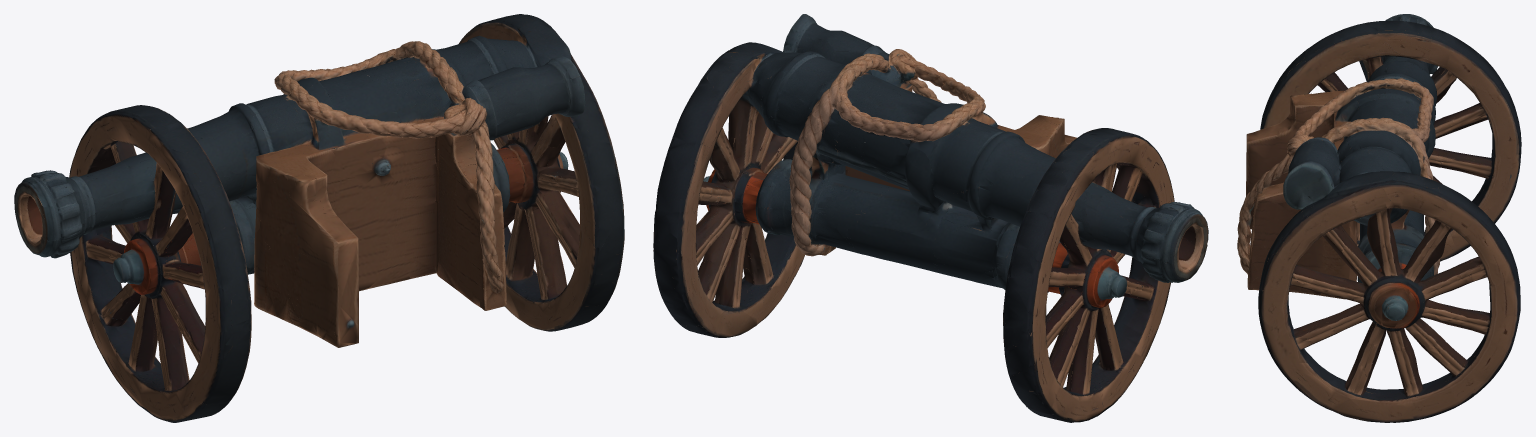
Rendered from cannone_forte_lod0.glb.
3 views of the same model, side by side, from view 1: azimuth 30°, elevation 25°; view 2: azimuth 150°, elevation 25°; view 3: azimuth 270°, elevation 25° (orthographic). The views are drawn at different scales.
Parts seen in each view (by area): view 1: Mesh_0.002; view 2: Mesh_0.002; view 3: Mesh_0.002.
Boxes of the visible parts, bbox=[...] form: Mesh_0.002: bbox=[14, 14, 624, 422]; Mesh_0.002: bbox=[653, 14, 1208, 422]; Mesh_0.002: bbox=[1237, 14, 1521, 422].
Size of the model in its own units: 2.38 by 1.3 by 1.33.
1 material, 1 textured.
